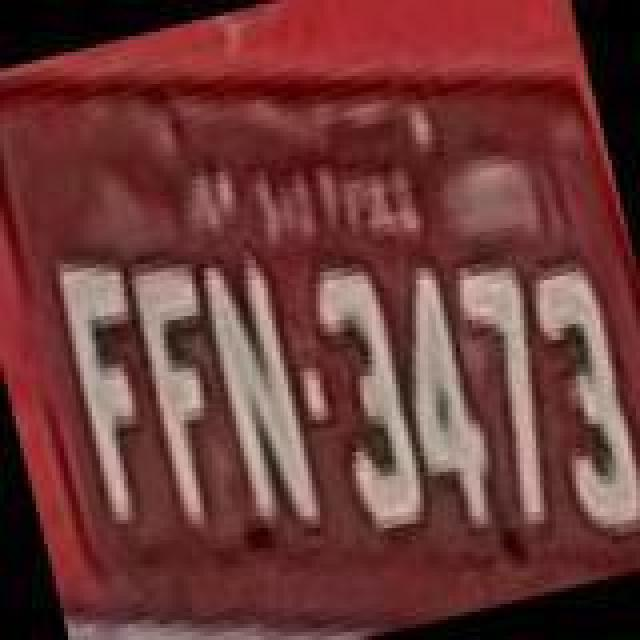3: (300, 254, 436, 538), (520, 258, 640, 542)
4: (378, 262, 510, 538)
7: (446, 254, 578, 530)
F: (48, 250, 184, 534), (124, 252, 260, 532)
N: (192, 248, 328, 536)
